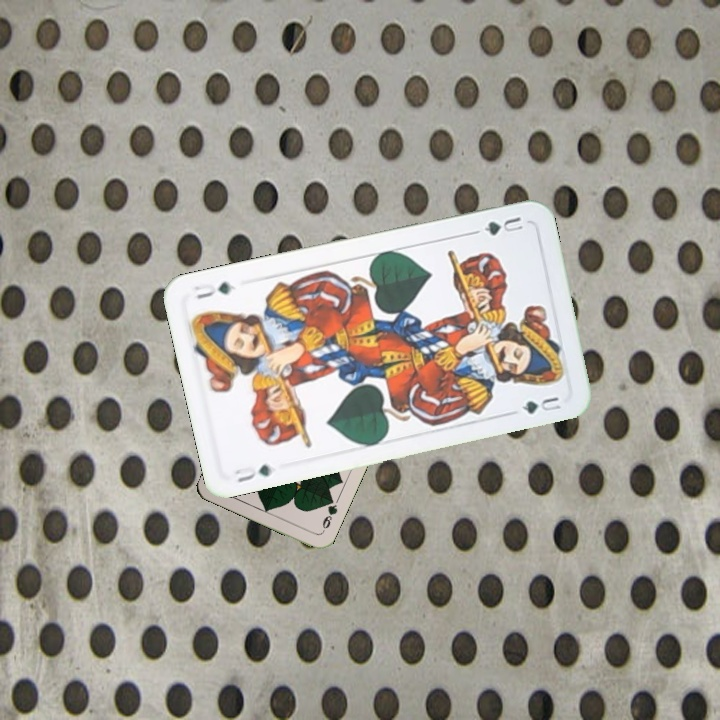G9: (318, 495, 340, 535)
GU: (480, 212, 527, 238), (230, 460, 275, 485)
